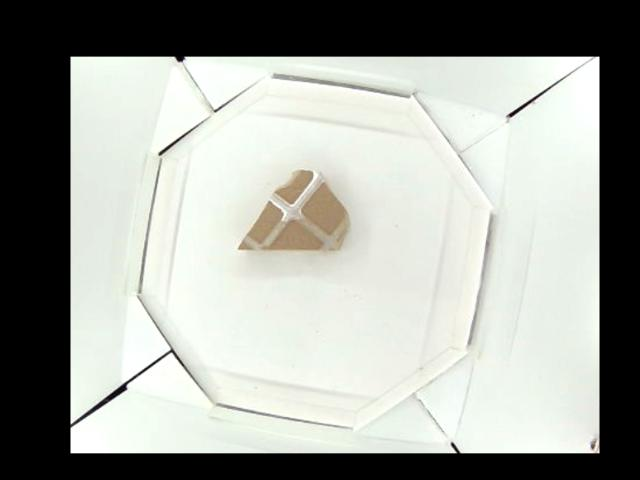China: (237, 169, 349, 252)
